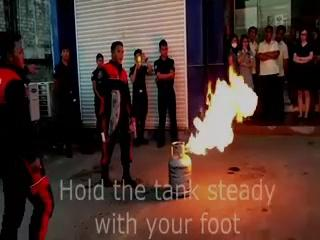Fire: (180, 38, 252, 156)
